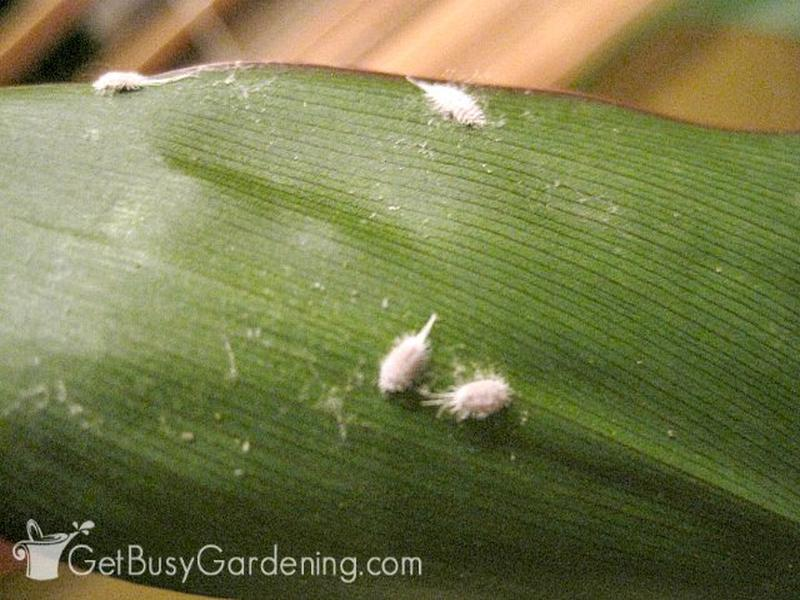Mealy_bug: (350, 293, 529, 451), (411, 64, 497, 155), (89, 60, 161, 101)
